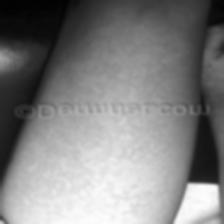Toxin: (27, 120, 171, 201), (46, 54, 186, 101)
